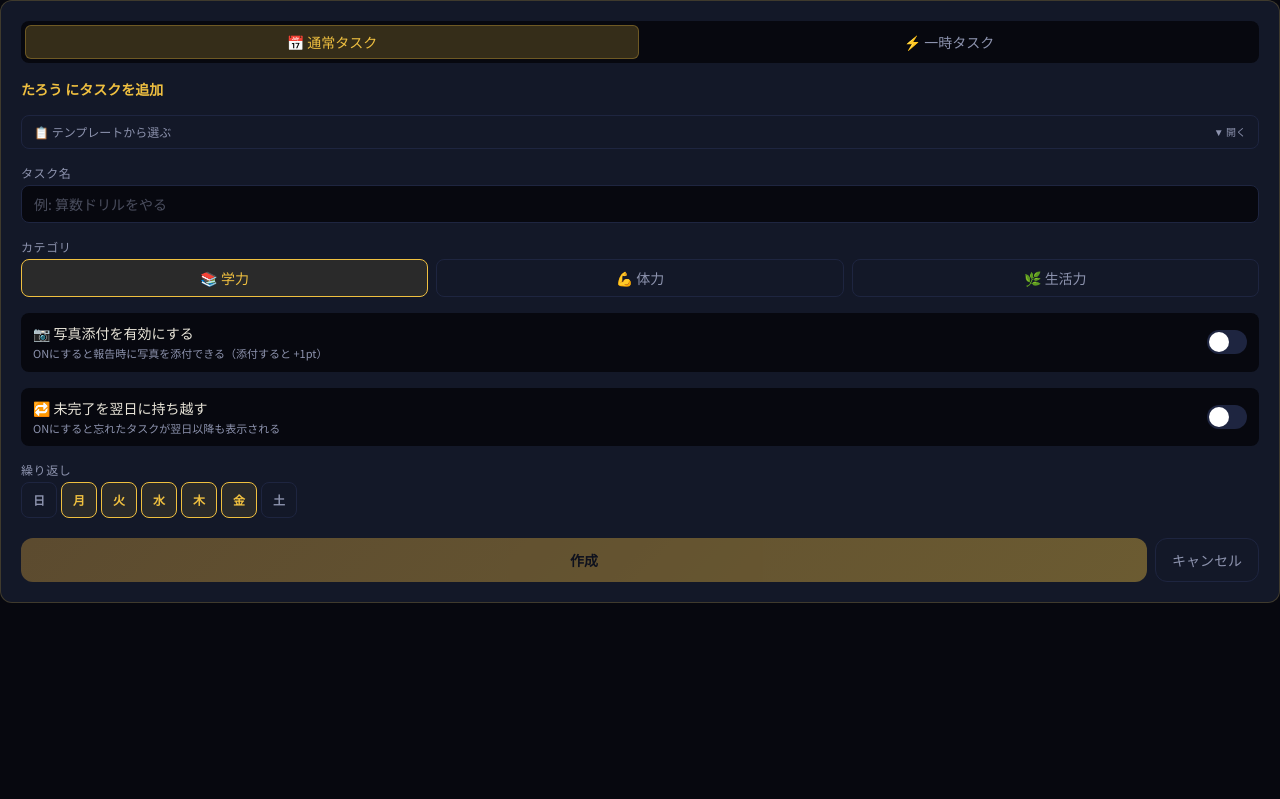
it: TaskForm テンプレート開閉 › 一覧表示中にもう一度トグルを押すと閉じる
Click the button "📋 テンプレートから選ぶ ▼ 開く".
click(103, 132)  # box [21,115,1259,149]
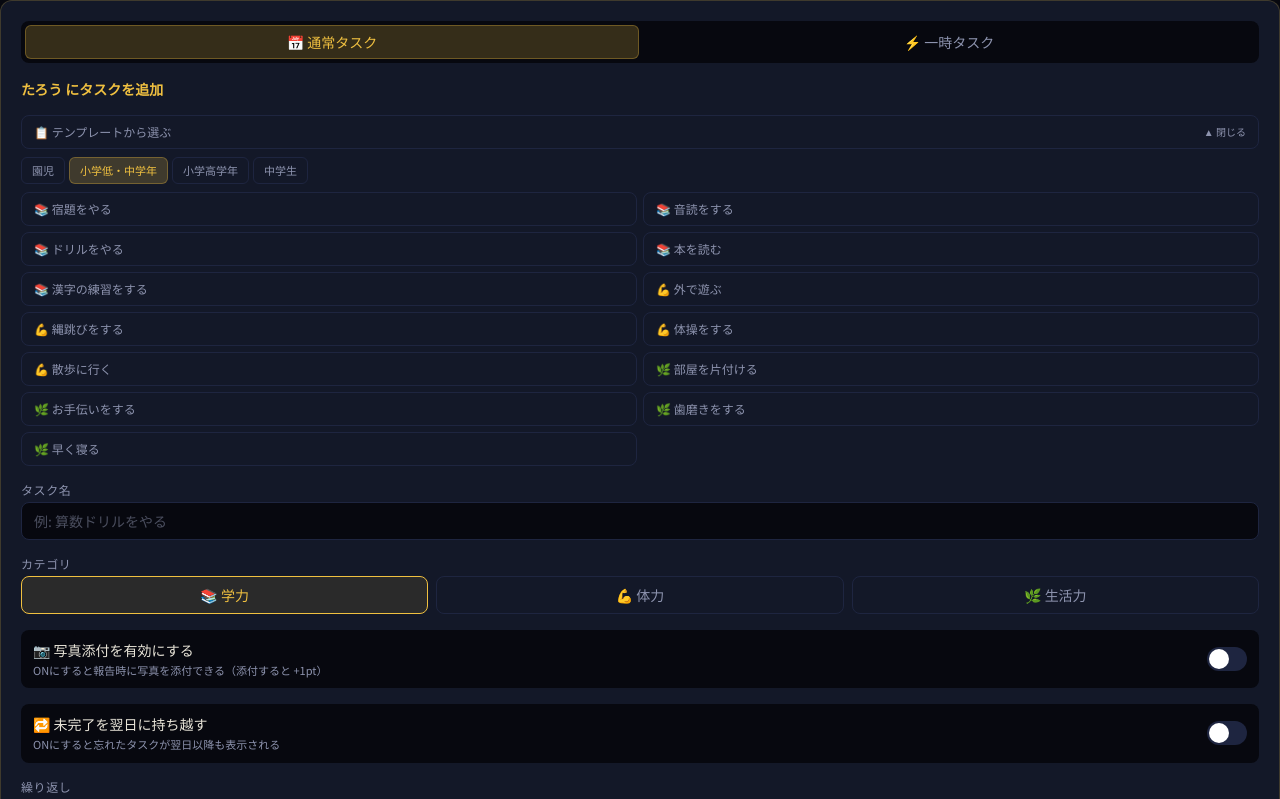
expect the button "小学低・中学年" is shown: met, box [69,157,168,184]
Click the button "📋 テンプレートから選ぶ ▲ 閉じる".
click(103, 132)  # box [21,115,1259,149]
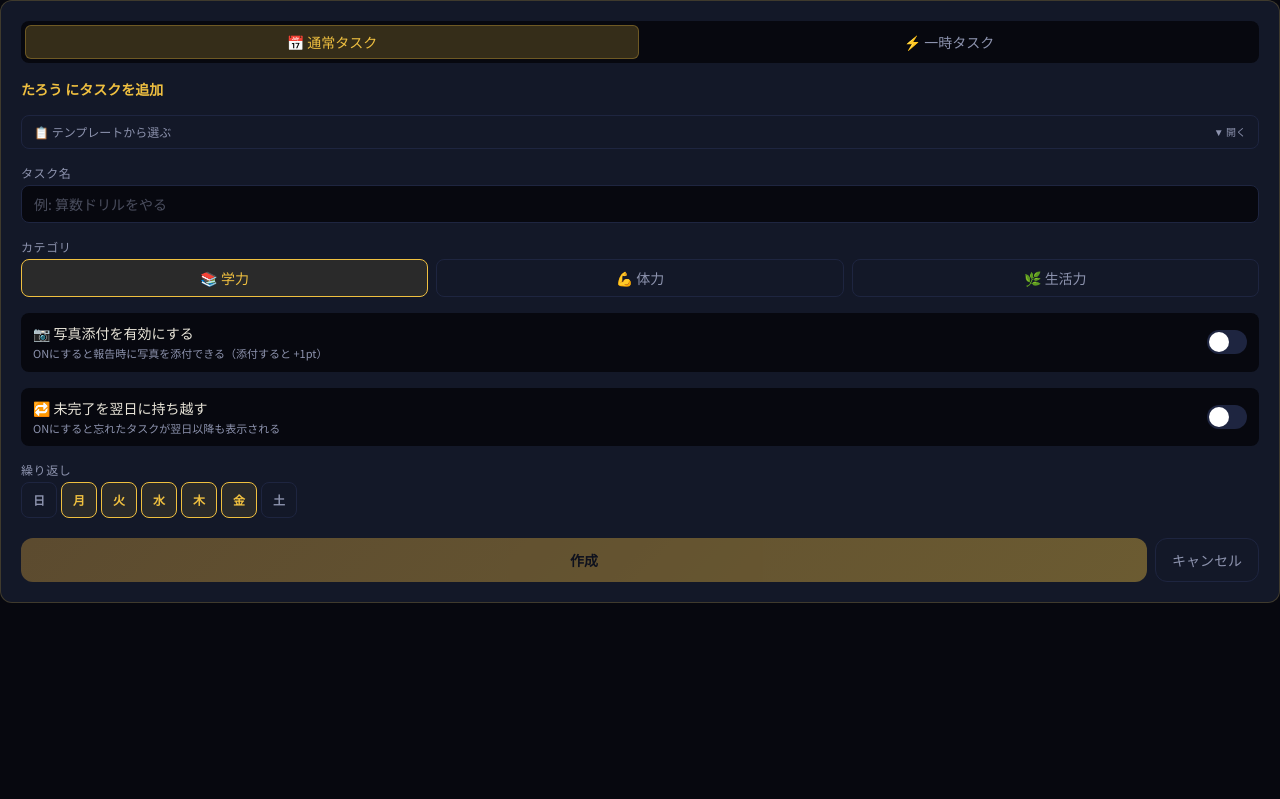
expect the button "小学低・中学年" is gone: met
